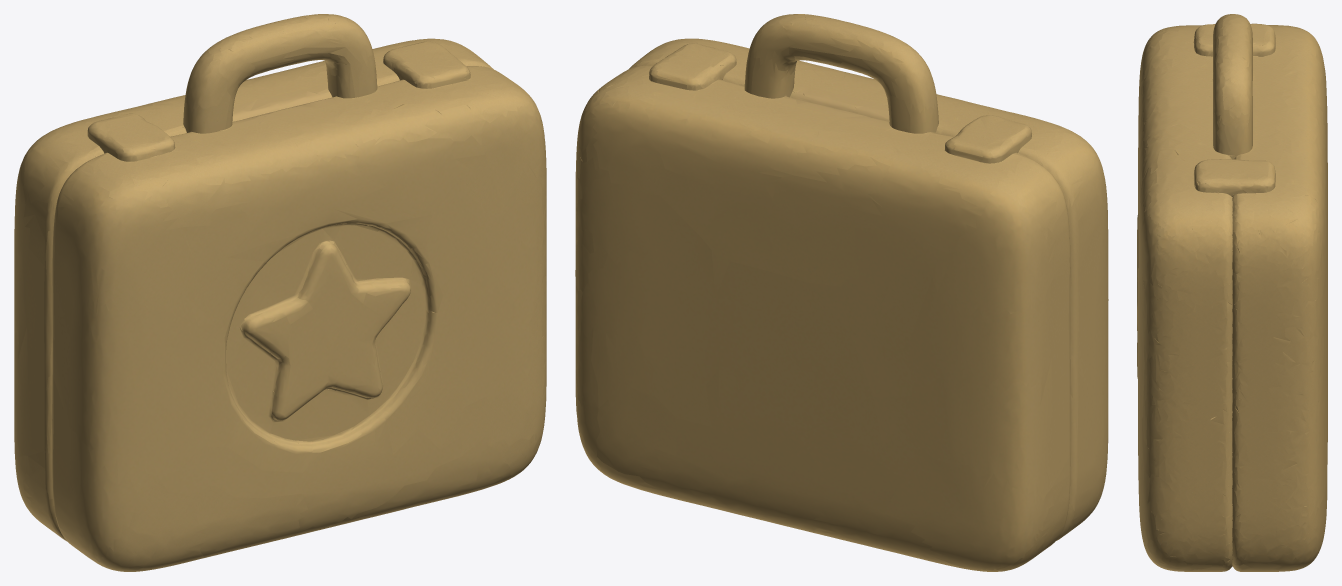
Rendered from t5-gold.original.glb.
3 views of the same model, side by side, from view 1: azimuth 30°, elevation 25°; view 2: azimuth 150°, elevation 25°; view 3: azimuth 270°, elevation 25° (orthographic). The views are drawn at different scales.
Visible parts, largest first — view 1: mesh_node; view 2: mesh_node; view 3: mesh_node.
Part boxes in pixels (bbox=[...]): mesh_node: bbox=[14, 14, 546, 571]; mesh_node: bbox=[575, 14, 1108, 571]; mesh_node: bbox=[1137, 14, 1327, 571].
Size of the model in its own units: 1.9 by 1.89 by 0.7238.
1 material, 1 textured.
